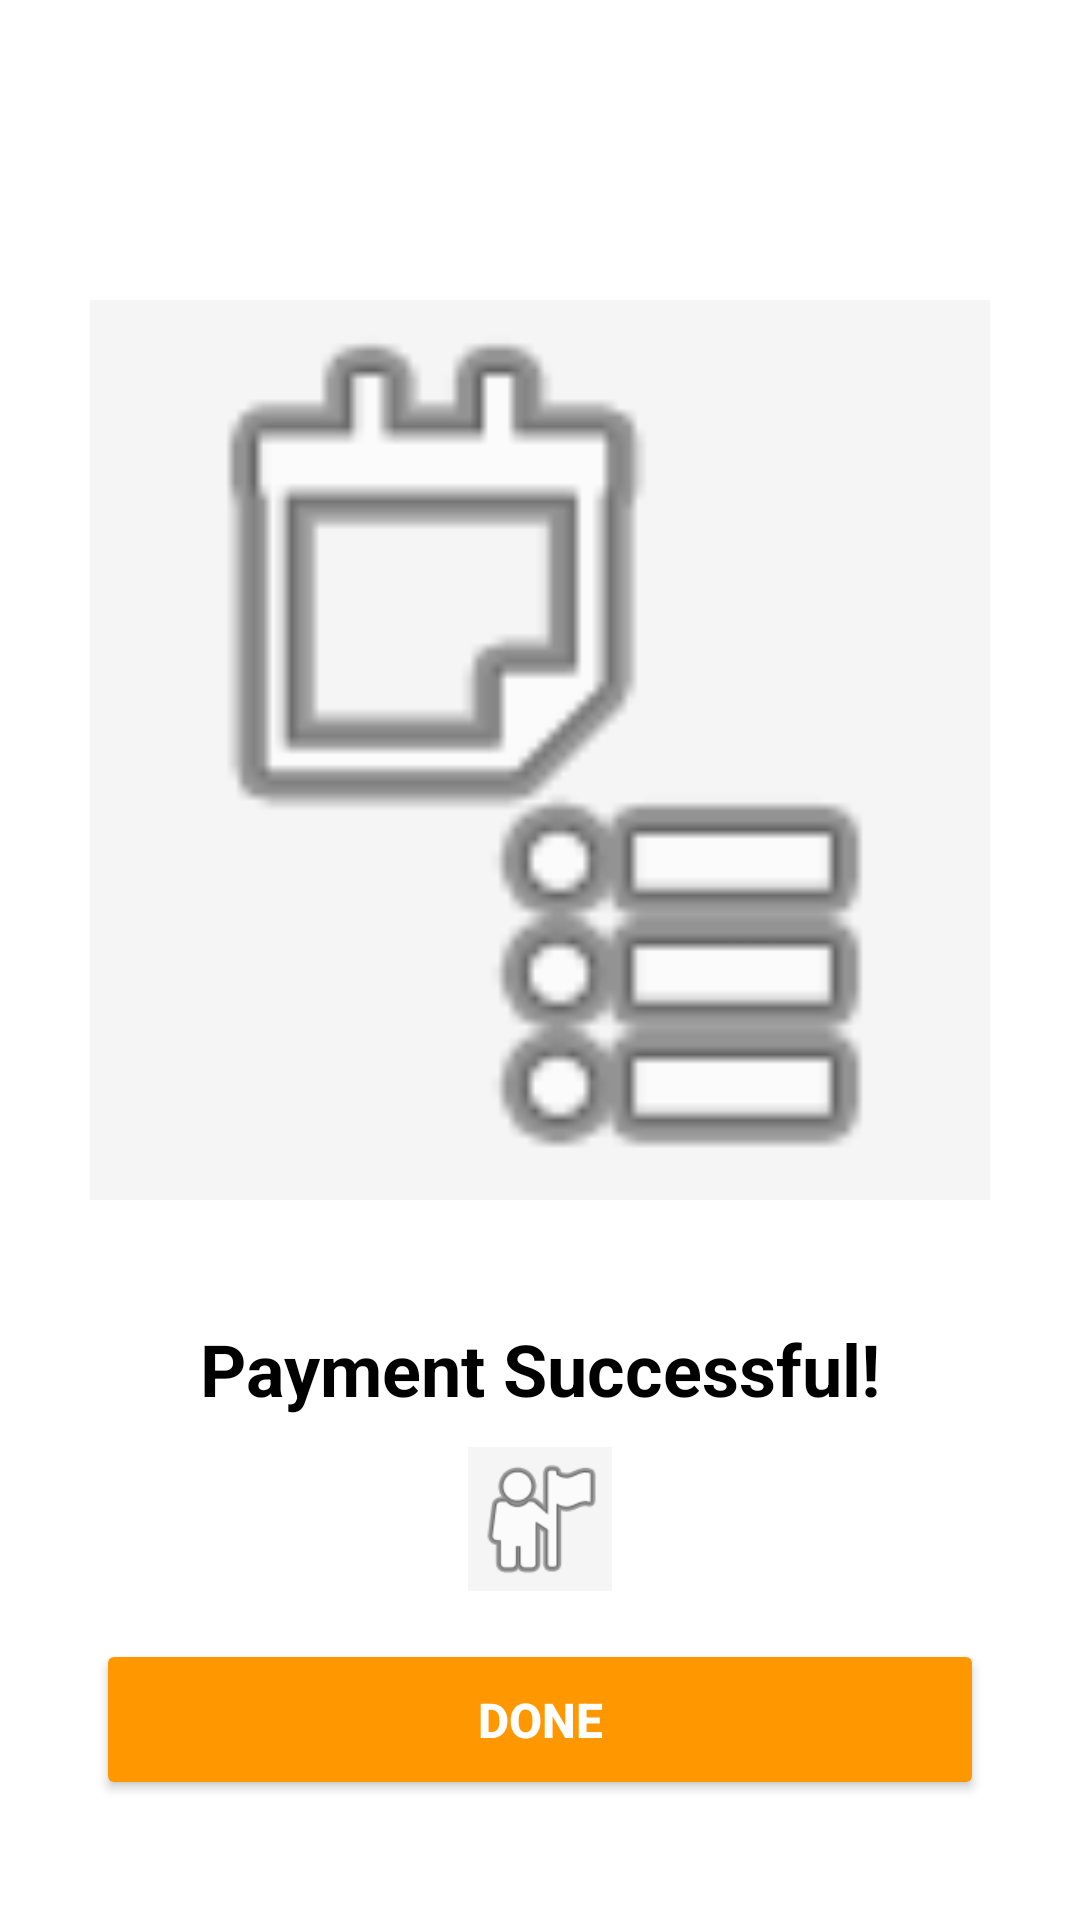

Locate icon controls on the screen. Image size 1080x1920, boxes as (x1, y1, x2, y2).
Avatar: (468, 1447, 612, 1591)
